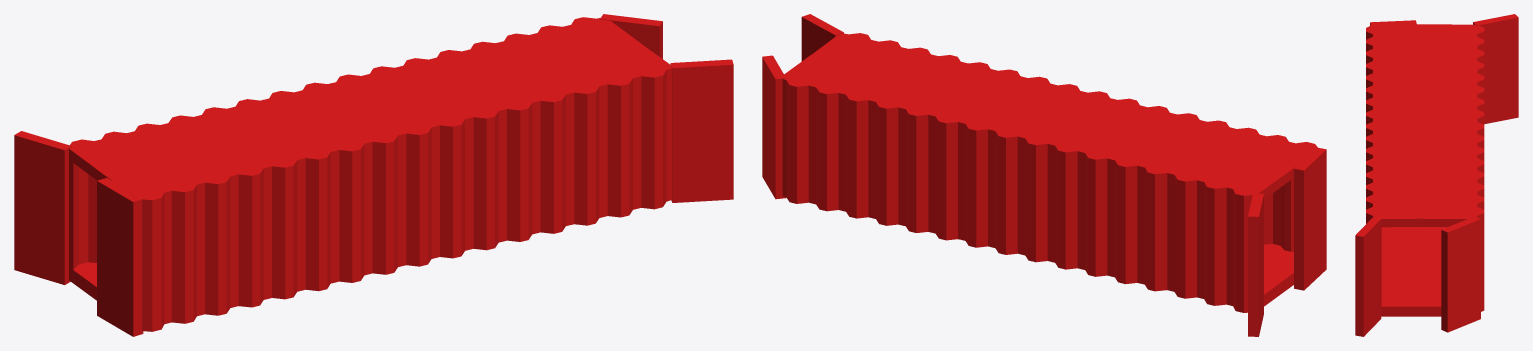
The model's file is Container.fbx.
The picture shows the model from 3 angles, left to right: view 1: azimuth 30°, elevation 25°; view 2: azimuth 150°, elevation 25°; view 3: azimuth 270°, elevation 25°; orthographic projection. The views are drawn at different scales.
Parts seen in each view (by area): view 1: Cube, Cube.002, Cube.004, Cube.003, Cube.001; view 2: Cube, Cube.003, Cube.001, Cube.004, Cube.002; view 3: Cube, Cube.001, Cube.004, Cube.002, Cube.003.
Part boxes in pixels (x1=…): Cube: x1=69, y1=17, x2=671, y2=331; Cube.002: x1=670, y1=59, x2=733, y2=202; Cube.004: x1=14, y1=131, x2=71, y2=284; Cube.003: x1=97, y1=178, x2=143, y2=336; Cube.001: x1=600, y1=14, x2=662, y2=58; Cube: x1=782, y1=33, x2=1318, y2=312; Cube.003: x1=1294, y1=147, x2=1326, y2=290; Cube.001: x1=762, y1=55, x2=786, y2=199; Cube.004: x1=1248, y1=193, x2=1263, y2=336; Cube.002: x1=801, y1=14, x2=843, y2=61; Cube: x1=1366, y1=24, x2=1484, y2=316; Cube.001: x1=1441, y1=216, x2=1480, y2=332; Cube.004: x1=1473, y1=14, x2=1518, y2=124; Cube.002: x1=1355, y1=217, x2=1381, y2=336; Cube.003: x1=1370, y1=20, x2=1416, y2=25.
Bounding box in the file's own units: 1147 × 241 × 356.
